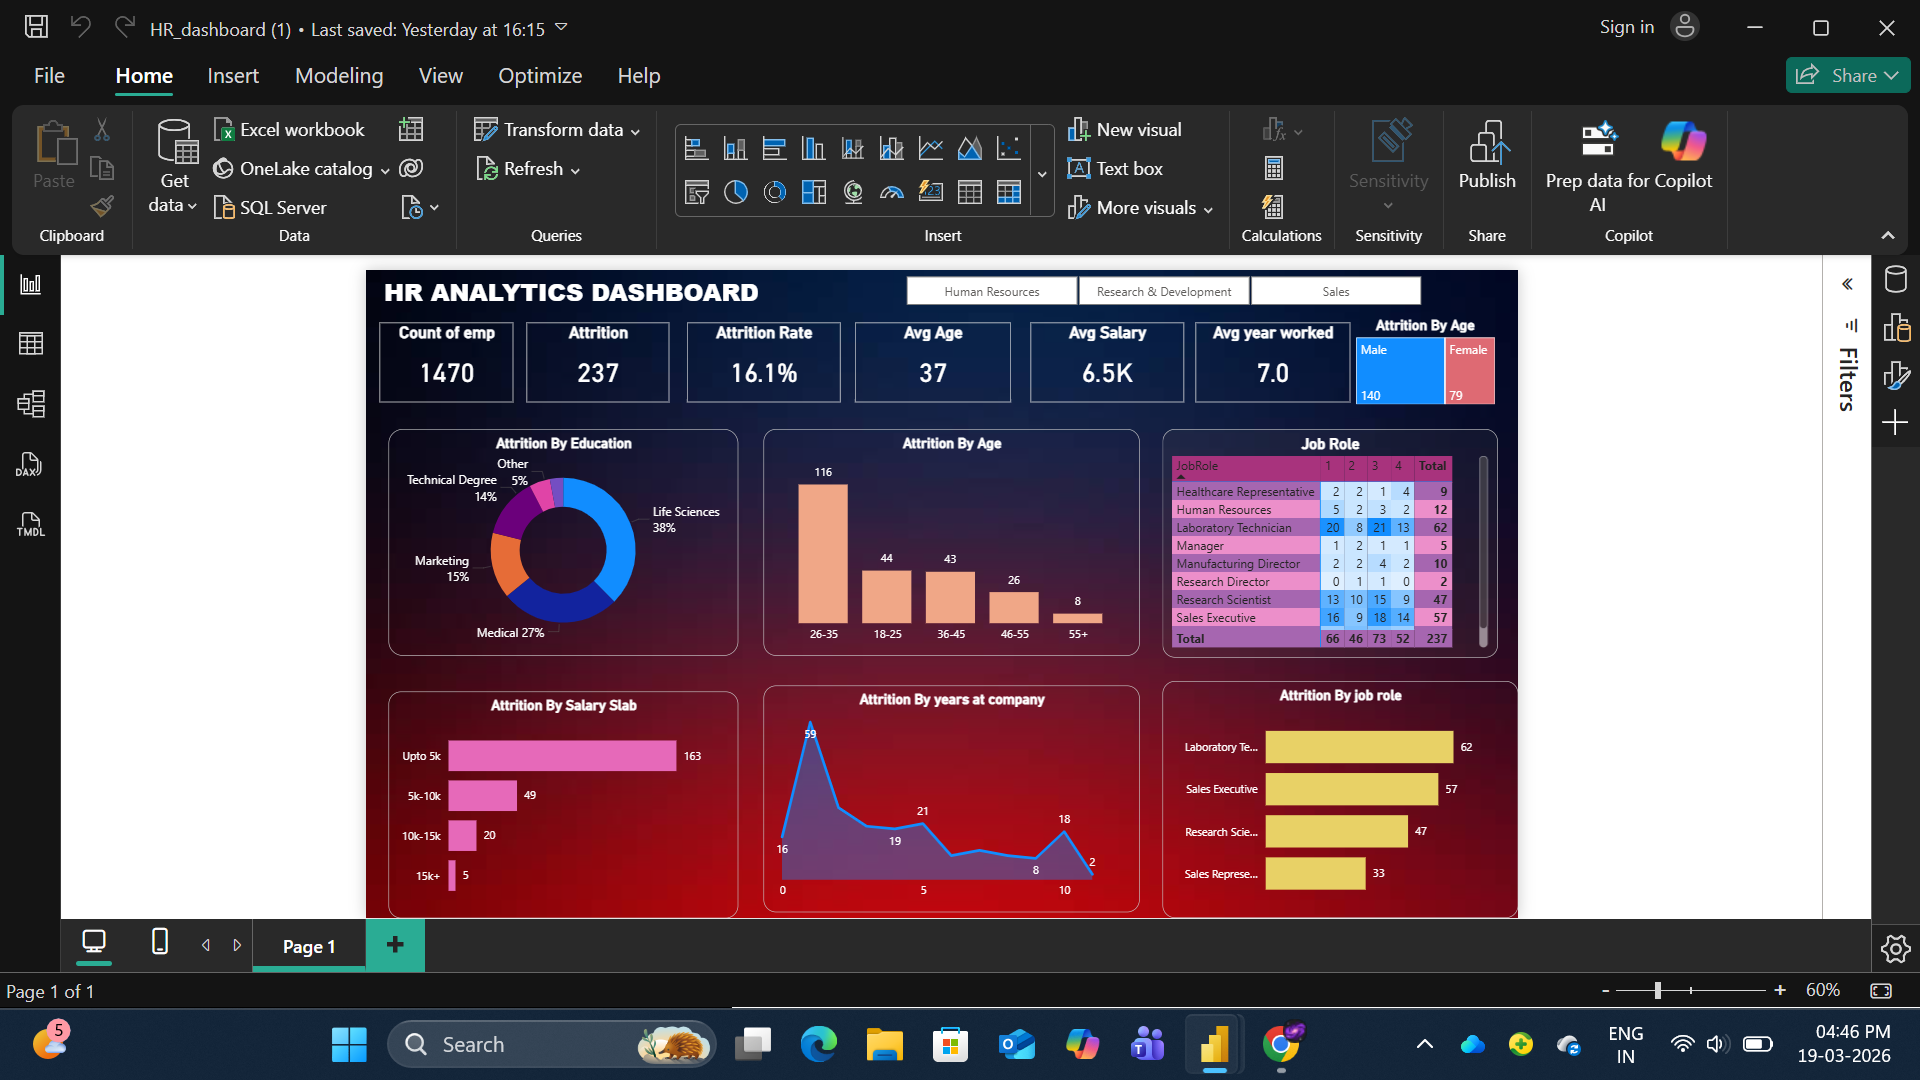

What the dashboard file says about the page in this screenshot:
{"tool":"powerbi","page":{"name":"Page 1","canvas":[1280,720],"ordinal":0},"visuals":[{"type":"card","title":"Count of emp","fields":{"Values":["CountNonNull(HR_Analytics.EmpID)"]},"box":[14.3,58.7,149,88.8],"z":0},{"type":"card","title":"Attrition","fields":{"Values":["Sum(HR_Analytics.Attritioncount)"]},"box":[179,58.7,159,88.8],"z":1000},{"type":"card","title":"Attrition Rate","fields":{"Values":["HR_Analytics.AttritionRate"]},"box":[356.7,58.7,170.5,88.8],"z":2000},{"type":"card","title":"Avg Age","fields":{"Values":["Avg(HR_Analytics.Age)"]},"box":[542.9,58.7,173.3,88.8],"z":3000},{"type":"card","title":"Avg Salary","fields":{"Values":["Avg(HR_Analytics.MonthlyIncome)"]},"box":[739.1,58.7,170.5,88.8],"z":4000},{"type":"card","title":"Avg year worked","fields":{"Values":["Avg(HR_Analytics.YearsAtCompany)"]},"box":[922.5,58.7,171.9,88.8],"z":5000},{"type":"donutChart","title":"Attrition By Education","fields":{"Category":["HR_Analytics.EducationField"],"Y":["Sum(HR_Analytics.Attritioncount)"]},"box":[24.4,177.3,388.7,252.1],"z":6000},{"type":"columnChart","title":"Attrition By Age","fields":{"Category":["HR_Analytics.AgeGroup"],"Y":["Sum(HR_Analytics.Attritioncount)"]},"box":[442.4,177.3,418,252.1],"z":7000},{"type":"pivotTable","title":"Job Role","fields":{"Columns":["HR_Analytics.JobSatisfaction"],"Rows":["HR_Analytics.JobRole"],"Values":["Sum(HR_Analytics.Attritioncount)"]},"box":[884.8,177.3,372.5,253.7],"z":8000},{"type":"barChart","title":"Attrition By Salary Slab","fields":{"Category":["HR_Analytics.SalarySlab"],"Y":["Sum(HR_Analytics.Attritioncount)"]},"box":[24.4,468.4,388.7,252.1],"z":8002},{"type":"barChart","title":"Attrition By job role","fields":{"Category":["HR_Analytics.JobRole"],"Y":["Sum(HR_Analytics.Attritioncount)"]},"box":[884.8,457.1,395.3,263.5],"z":8003},{"type":"areaChart","title":"Attrition By years at company","fields":{"Category":["HR_Analytics.YearsAtCompany"],"Y":["Sum(HR_Analytics.Attritioncount)"]},"box":[442.4,461.9,418,252.1],"z":8004},{"type":"treemap","title":"Attrition By Age","fields":{"Group":["HR_Analytics.Gender"],"Values":["Sum(HR_Analytics.Attritioncount)"]},"box":[1094.7,52,164.3,102.5],"z":8005},{"type":"slicer","fields":{"Values":["HR_Analytics.Department"]},"box":[574.4,0,621.7,45.8],"z":8006},{"type":"textbox","box":[14.6,0,442.4,63.4],"z":8007}]}

Visuals, with their boxes on the page's 1280x720 design canvas (x1, y1, x2, y2). These are canvas units, not pixel positions in the 1920x1080 screenshot, which may show the page scaled, cropped or inside an application window:
"Count of emp" card: locate(14, 59, 163, 148)
"Attrition" card: locate(179, 59, 338, 148)
"Attrition Rate" card: locate(357, 59, 527, 148)
"Avg Age" card: locate(543, 59, 716, 148)
"Avg Salary" card: locate(739, 59, 910, 148)
"Avg year worked" card: locate(922, 59, 1094, 148)
"Attrition By Education" donutChart: locate(24, 177, 413, 429)
"Attrition By Age" columnChart: locate(442, 177, 860, 429)
"Job Role" pivotTable: locate(885, 177, 1257, 431)
"Attrition By Salary Slab" barChart: locate(24, 468, 413, 720)
"Attrition By job role" barChart: locate(885, 457, 1280, 721)
"Attrition By years at company" areaChart: locate(442, 462, 860, 714)
"Attrition By Age" treemap: locate(1095, 52, 1259, 154)
slicer - HR_Analytics.Department: locate(574, 0, 1196, 46)
textbox: locate(15, 0, 457, 63)
